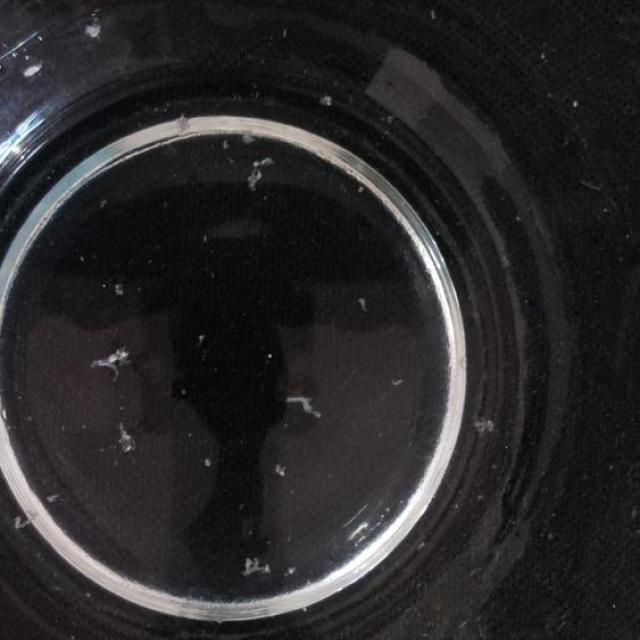fiber: (88, 346, 130, 381), (243, 155, 274, 196), (239, 550, 271, 586), (286, 388, 320, 417), (115, 426, 141, 458), (14, 508, 40, 532), (472, 414, 496, 439), (172, 113, 194, 140), (20, 61, 46, 83), (81, 17, 104, 41), (201, 452, 217, 472), (318, 93, 338, 108), (274, 462, 288, 483), (47, 489, 61, 509), (284, 563, 302, 578), (240, 131, 256, 147), (390, 378, 410, 390), (355, 294, 369, 310), (384, 110, 395, 130), (267, 346, 275, 366), (99, 198, 110, 212), (200, 231, 211, 245), (114, 282, 122, 300), (356, 182, 365, 198), (570, 97, 580, 110), (222, 138, 230, 153), (178, 384, 189, 394), (281, 25, 287, 42), (198, 332, 205, 342)
